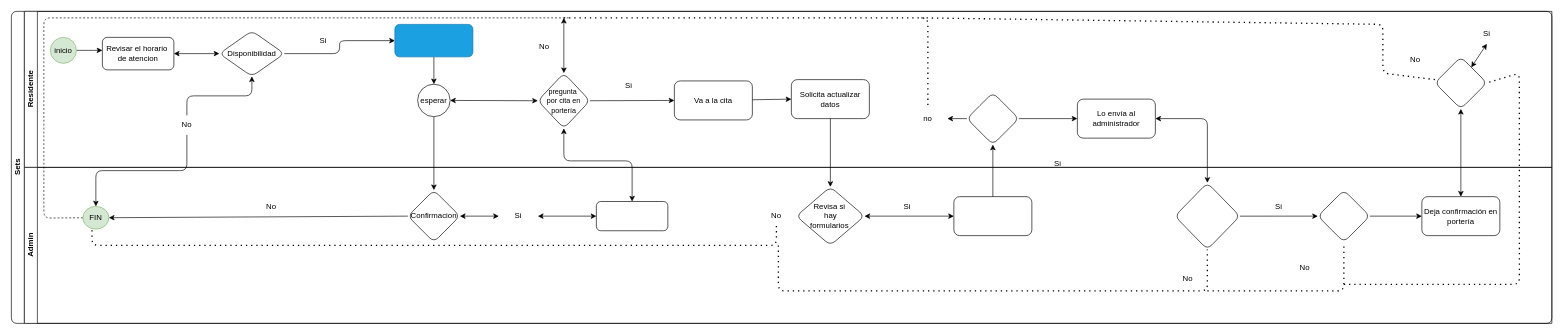
This 1563x335 diagram has some shape labels left out. Here are the shapes that lost their labels. From the top down, the centre of each, then its label:
the point at 433,40: Agendar cita
the point at 1460,82: Notificado
the point at 992,118: llena el formulario
the point at 632,216: Envia notificacion a casillero
the point at 992,216: Manda a llenar formulario para actualizar datos
the point at 1207,215: Actualiza datos correctamente
the point at 1343,215: Notifica
